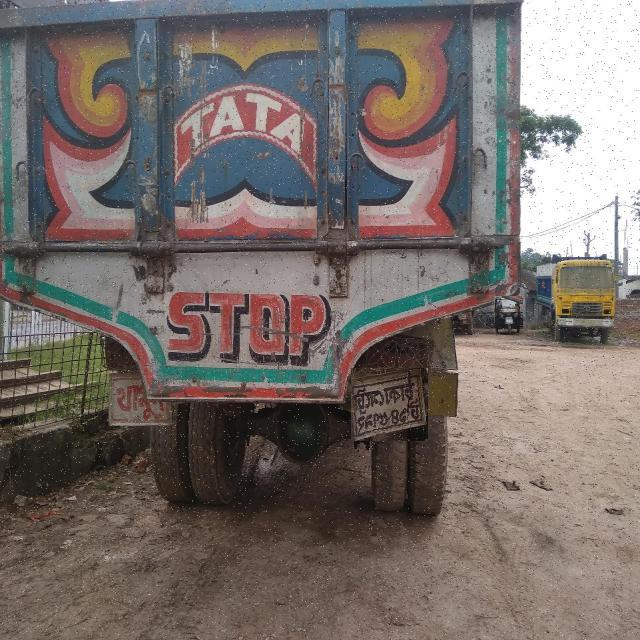cng: (494, 296, 523, 334)
numberplate: (351, 368, 428, 441)
